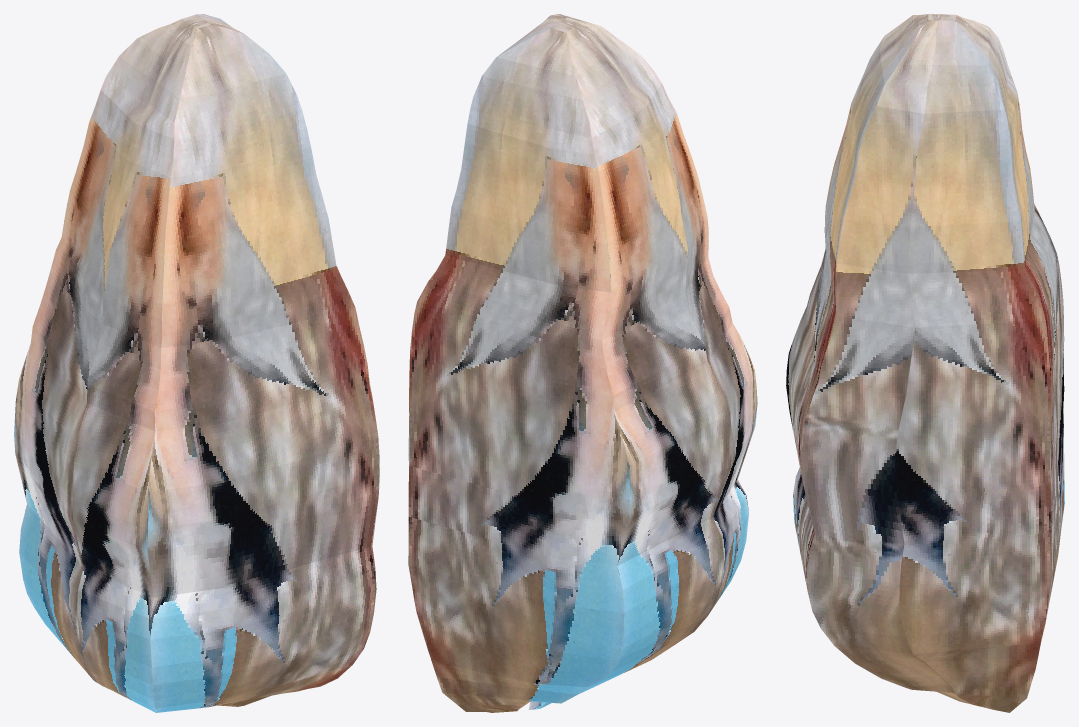
The model's file is metamorphosis_v19_t.glb.
The picture shows the model from 3 angles, left to right: view 1: azimuth 30°, elevation 25°; view 2: azimuth 150°, elevation 25°; view 3: azimuth 270°, elevation 25°; orthographic projection. The views are drawn at different scales.
Visible parts, largest first — view 1: Cube; view 2: Cube; view 3: Cube.
Part boxes in pixels (box(x1,y1,x2,y2)): Cube: box(14, 14, 379, 712); Cube: box(408, 14, 757, 712); Cube: box(786, 14, 1064, 712).
Size of the model in its own units: 1.69 by 4.14 by 1.57.
Materials: 1 (1 with a texture image).
